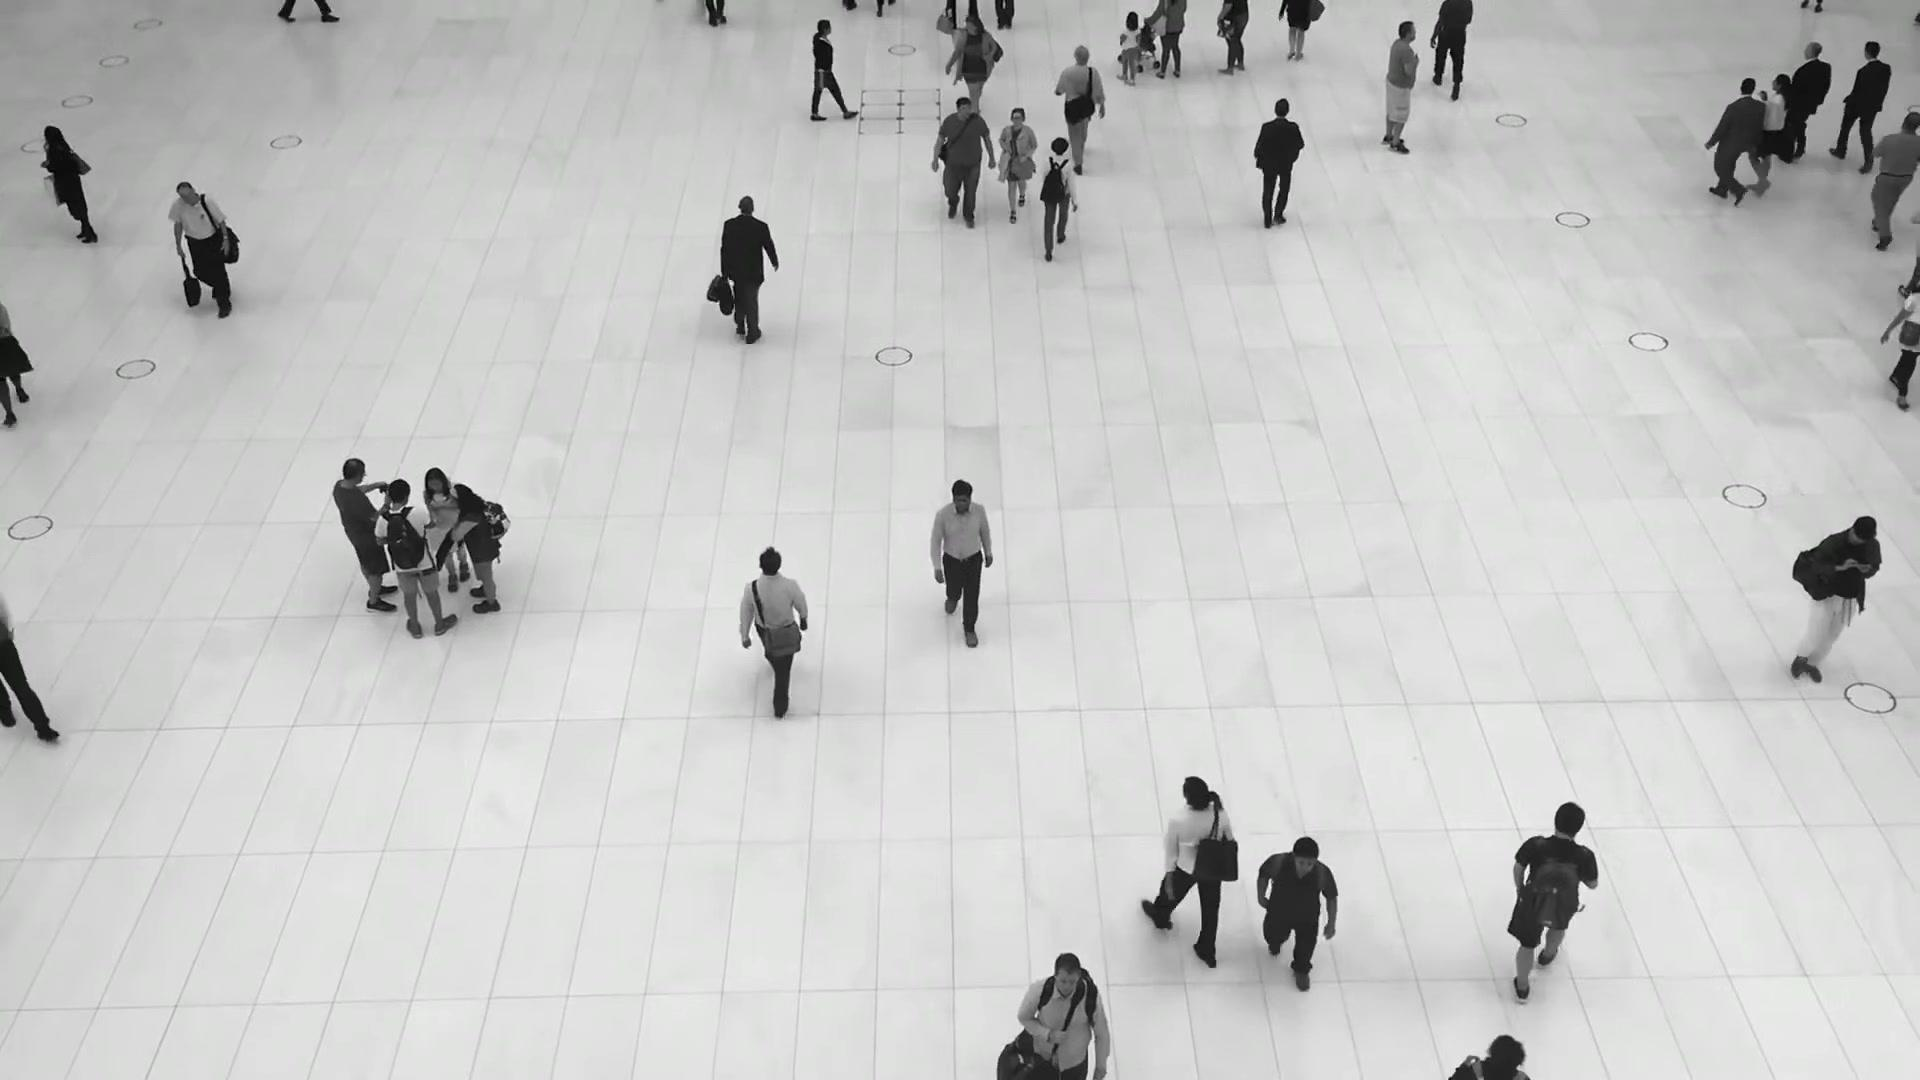person: (1508, 799, 1600, 997), (1789, 516, 1882, 689), (1154, 771, 1233, 957), (1254, 838, 1338, 999), (376, 477, 460, 635), (736, 544, 811, 719), (926, 479, 995, 654), (1015, 954, 1112, 1080), (333, 457, 399, 611), (166, 182, 233, 322), (719, 194, 779, 344), (1699, 77, 1764, 208), (931, 96, 995, 230), (1829, 39, 1892, 174), (1866, 109, 1920, 248), (1250, 97, 1306, 229), (41, 124, 99, 244), (449, 483, 501, 615), (1052, 44, 1105, 173), (422, 467, 469, 593), (1742, 72, 1790, 197), (1380, 19, 1420, 154), (1037, 136, 1078, 262), (1789, 41, 1831, 163), (947, 15, 997, 111), (997, 107, 1038, 224), (810, 18, 854, 122), (1429, 0, 1474, 98), (1115, 10, 1141, 86)
